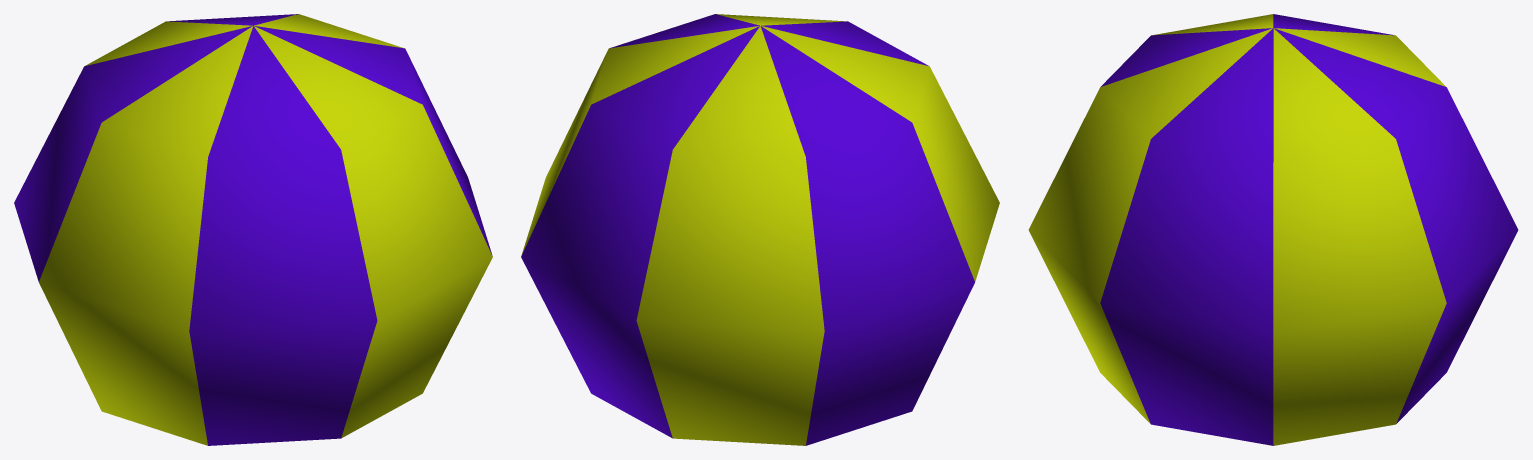
File: beach ball.dae
3 views of the same model, side by side, from view 1: azimuth 30°, elevation 25°; view 2: azimuth 150°, elevation 25°; view 3: azimuth 270°, elevation 25° (orthographic).
Parts seen in each view (by area): view 1: Sphere; view 2: Sphere; view 3: Sphere.
Boxes of the visible parts, x1,y1,x2,y2 form: Sphere: (14,14,492,445); Sphere: (521,14,999,445); Sphere: (1028,14,1518,445).
Size of the model in its own units: 2.2 by 2.2 by 2.
